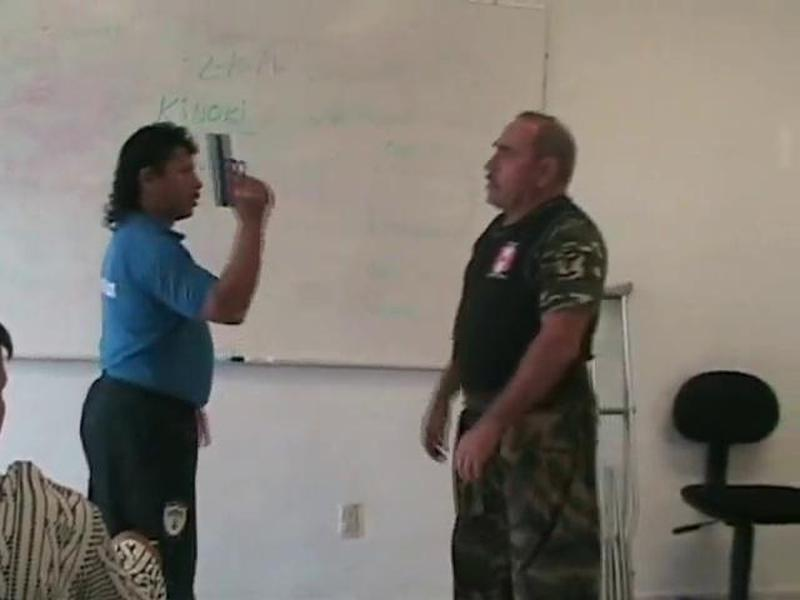Pistola: (197, 116, 287, 226)
